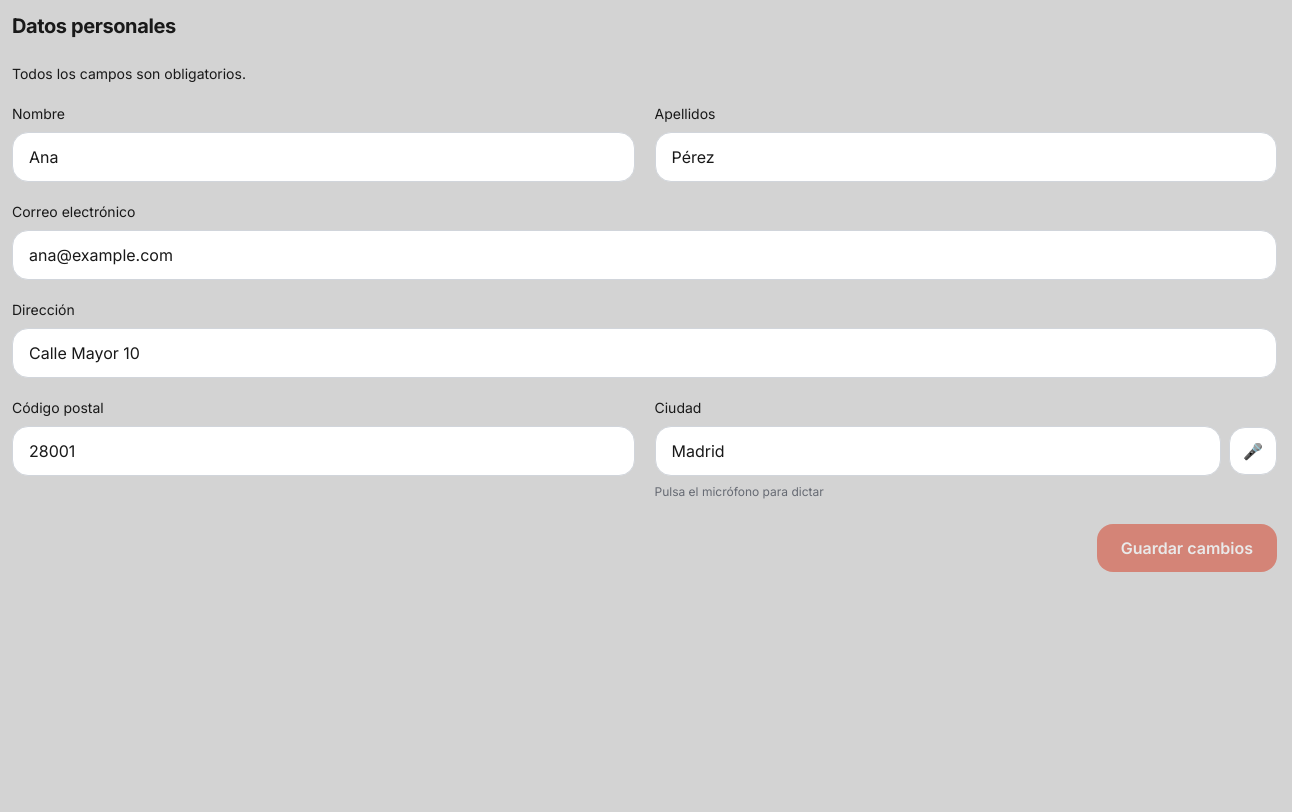
Scenario: ProfileForm - dictado por voz de la ciudad › error: no borra la ciudad que ya estaba escrita
Replace the text in the field with id "city" with "Gijón" at [938, 451], box left=654, top=426, right=1221, bottom=476
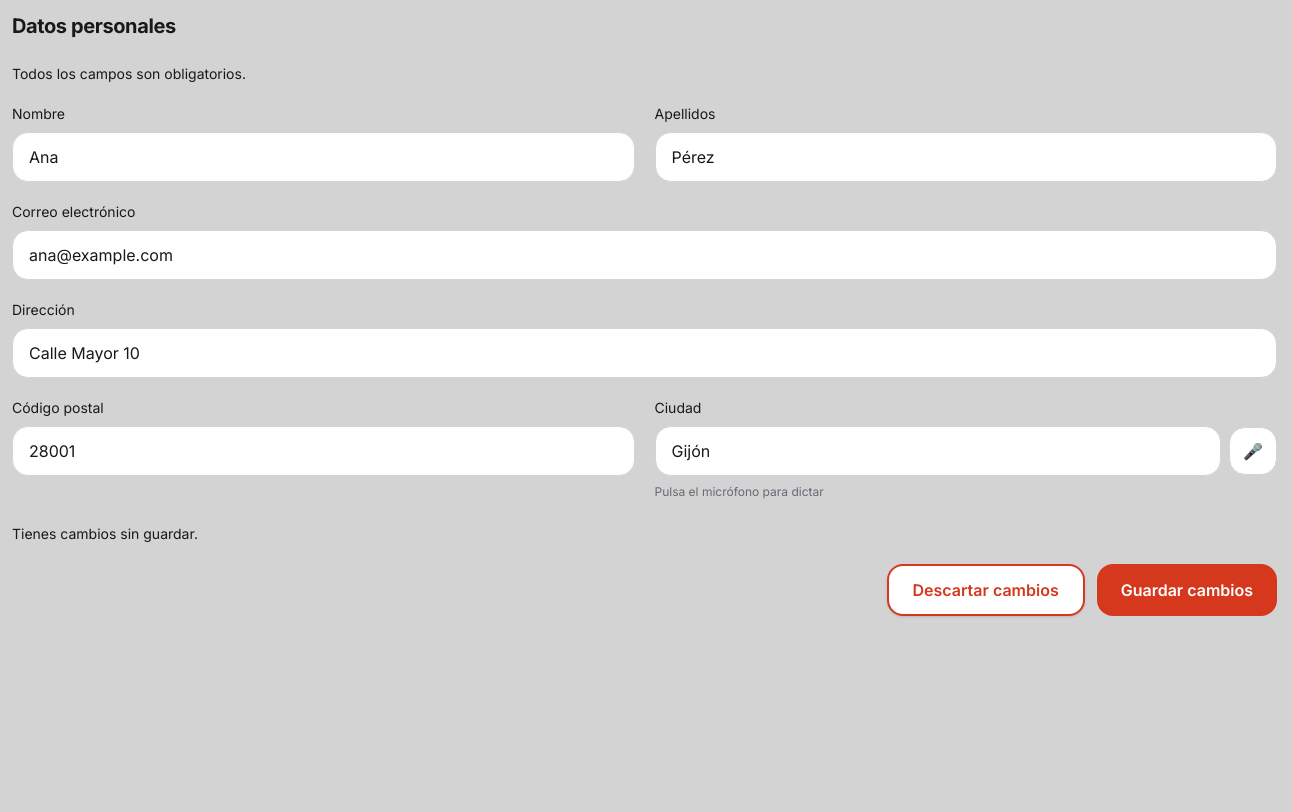
Click the button named "Dictar ciudad por voz".
click(1253, 451)  # box left=1229, top=427, right=1277, bottom=475
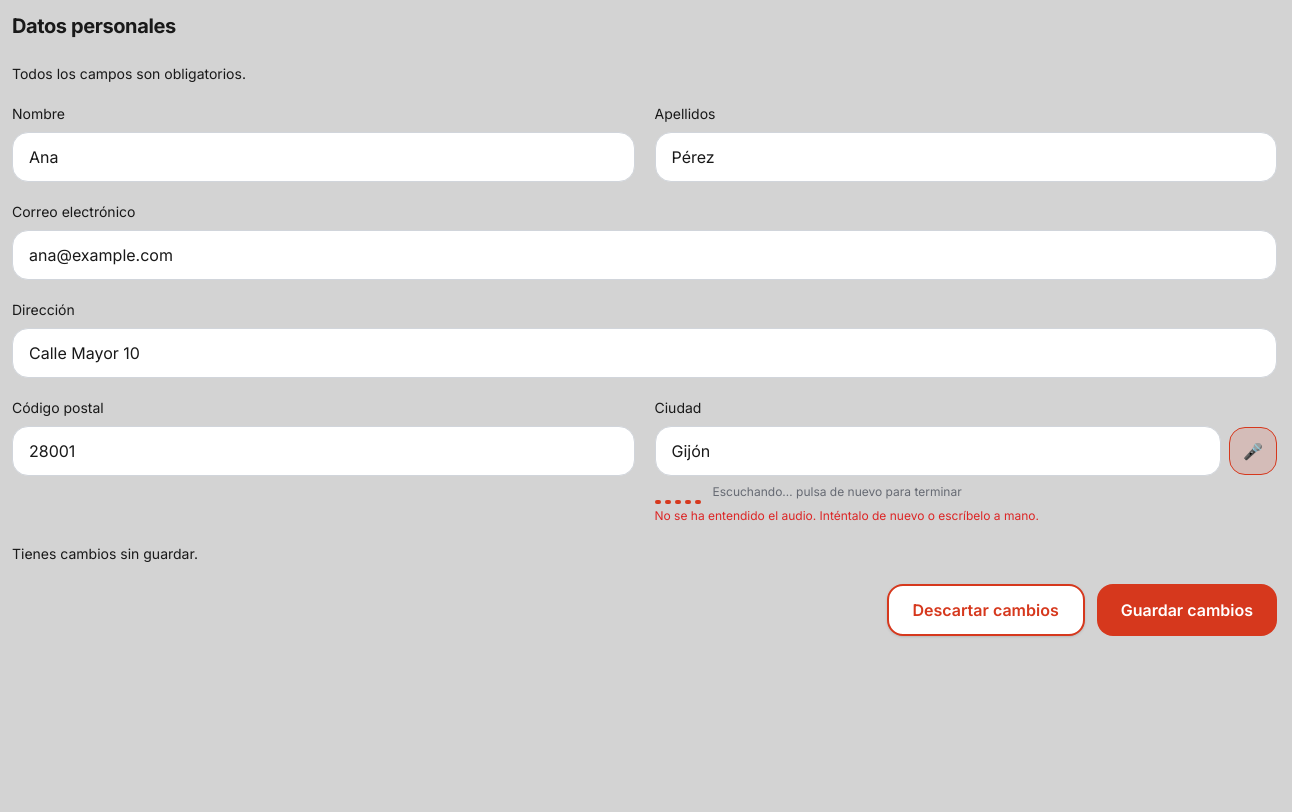
Now the message "No se ha entendido el audio. Inténtalo de nuevo o escríbelo a mano." is shown, box left=654, top=508, right=1039, bottom=523
